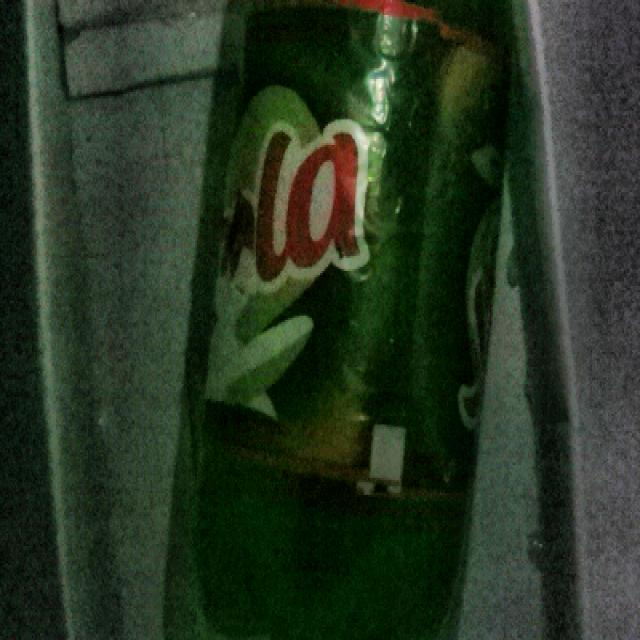plastic: (162, 0, 548, 640)
